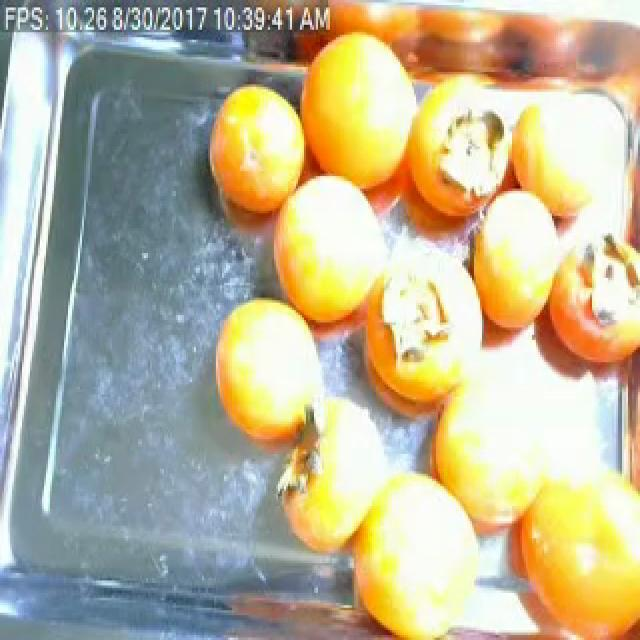Fruit: (488, 77, 640, 255), (200, 280, 334, 469), (194, 70, 318, 243)
